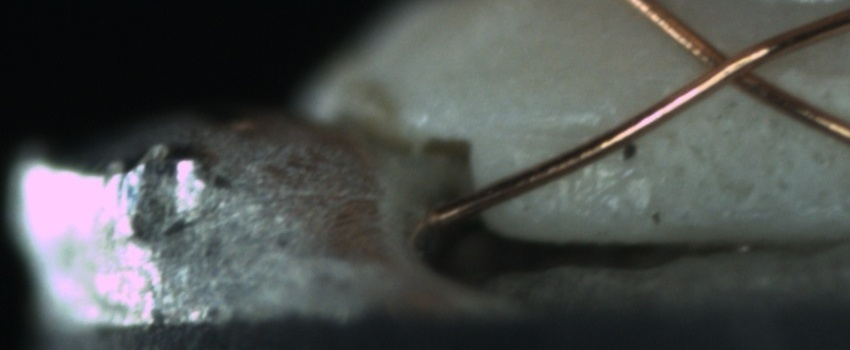CL: (680, 26, 779, 103)
DL: (498, 99, 635, 163)
